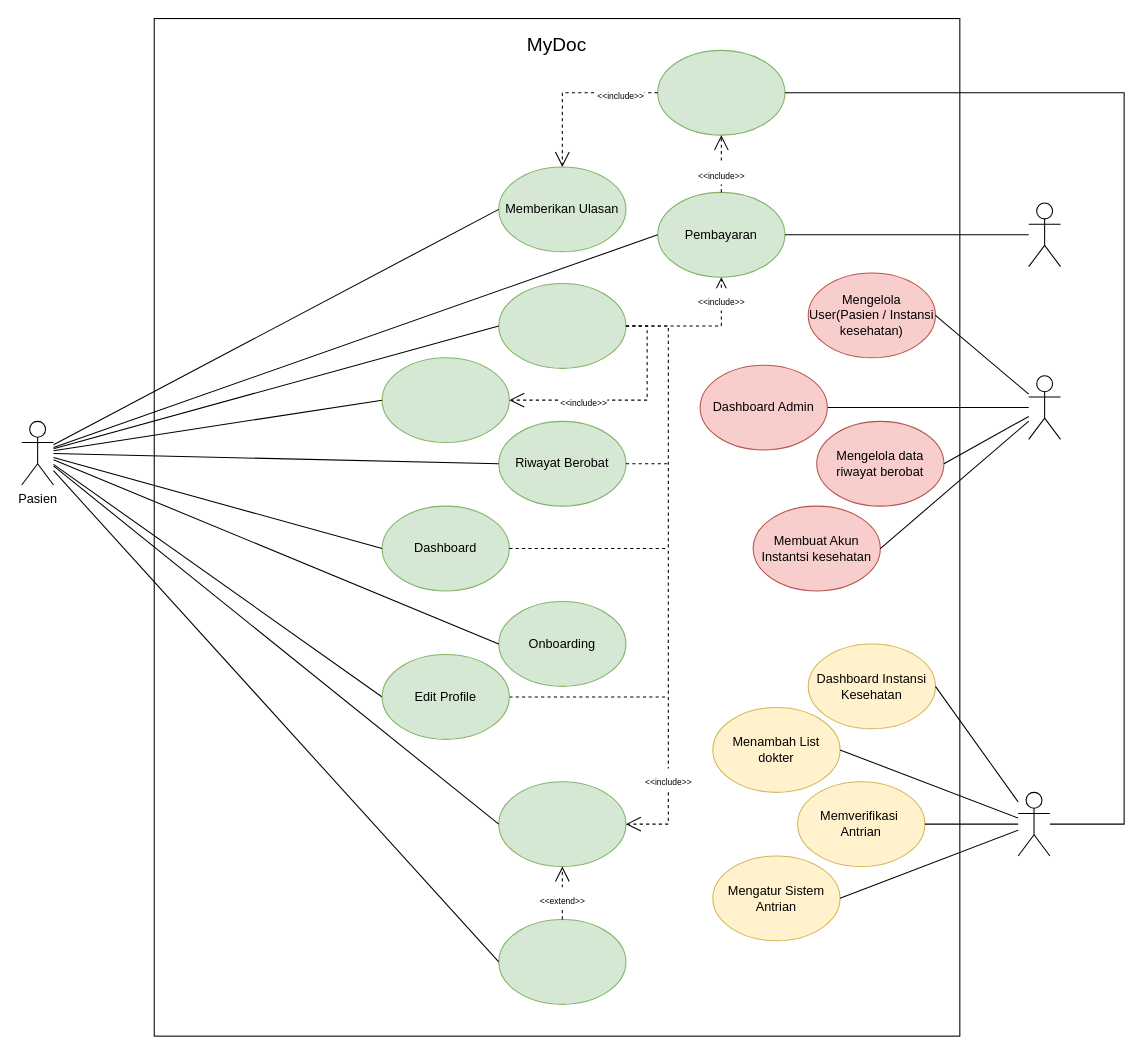
Image size: 1144x1055. Some labels were removed from this diagram. The shapes that lost their labels are listed below. From the top down, each one's centre as x and y in pixels, then its label:
At (721,92): "Invoice".
At (1044,234): "Payment Gateway (3rd Party)".
At (562,325): "Mendaftar Berobat".
At (445,400): "List Dokter".
At (1044,407): "Admin".
At (562,824): "Login".
At (1033,823): "Instansi Kesehatan".
At (562,961): "Register".
